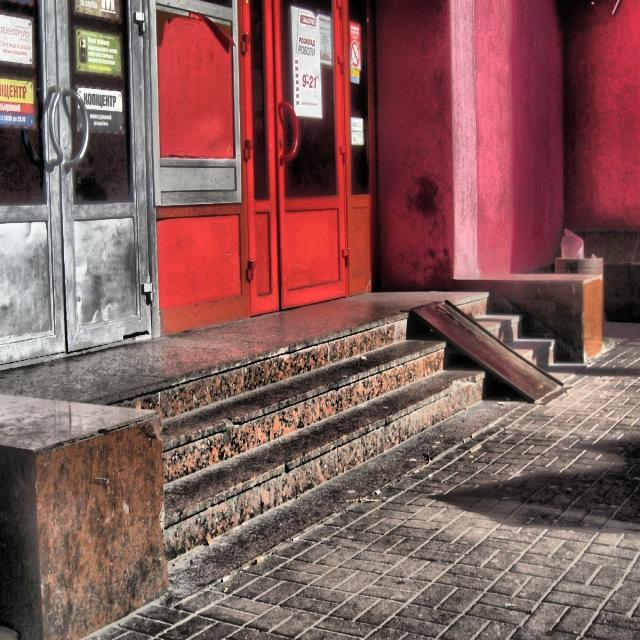escada: (153, 315, 487, 559)
